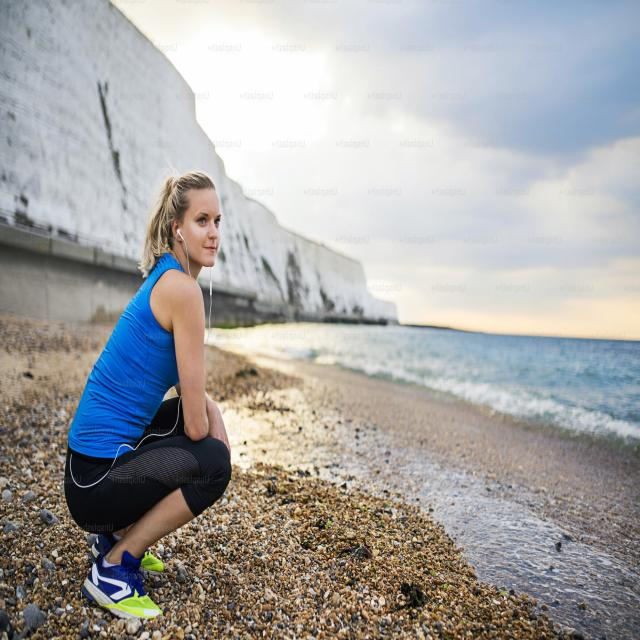adult: (60, 171, 234, 624)
